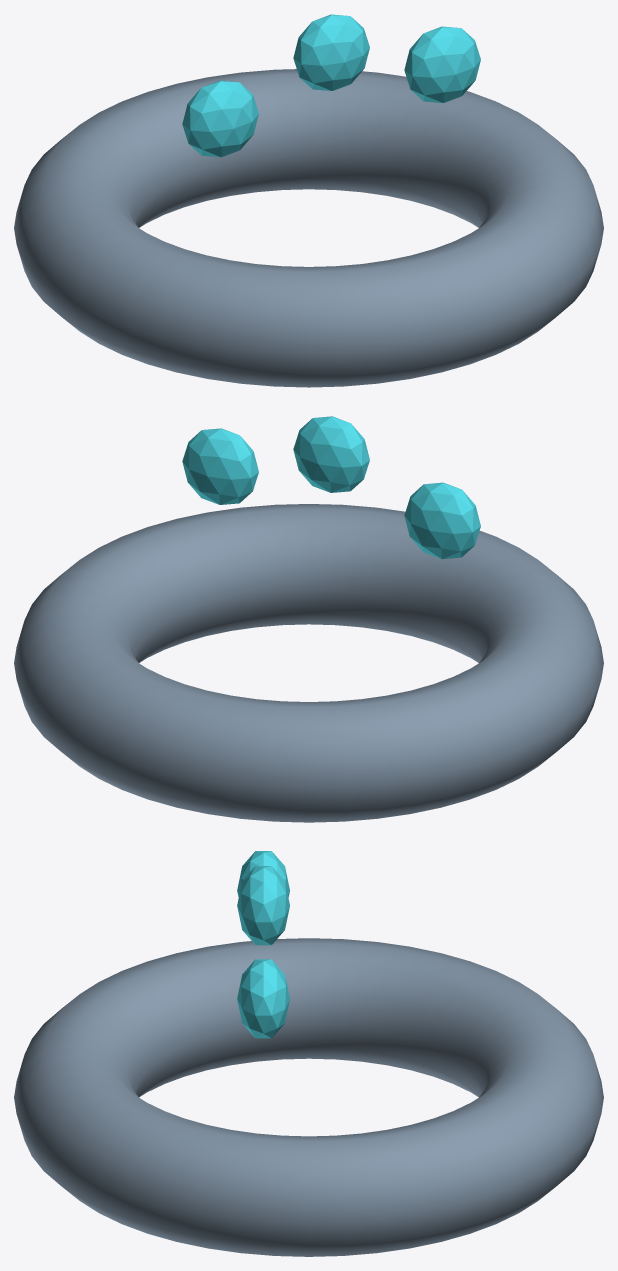
Rendered from earring_v2.glb.
3 views of the same model, one above another, from view 1: azimuth 30°, elevation 25°; view 2: azimuth 150°, elevation 25°; view 3: azimuth 270°, elevation 25° (orthographic).
Parts seen in each view (by area): view 1: EAR_CUFF_PRIMARY, CUFF_STUD_ACCENT.002, CUFF_STUD_ACCENT.001, CUFF_STUD_ACCENT; view 2: EAR_CUFF_PRIMARY, CUFF_STUD_ACCENT.002, CUFF_STUD_ACCENT.001, CUFF_STUD_ACCENT; view 3: EAR_CUFF_PRIMARY, CUFF_STUD_ACCENT.001, CUFF_STUD_ACCENT.002, CUFF_STUD_ACCENT.
Part boxes in pixels (x1=…): EAR_CUFF_PRIMARY: x1=14, y1=69, x2=603, y2=387; CUFF_STUD_ACCENT.002: x1=404, y1=26, x2=480, y2=103; CUFF_STUD_ACCENT.001: x1=293, y1=14, x2=369, y2=90; CUFF_STUD_ACCENT: x1=182, y1=80, x2=258, y2=157; EAR_CUFF_PRIMARY: x1=14, y1=504, x2=603, y2=822; CUFF_STUD_ACCENT.002: x1=182, y1=428, x2=258, y2=504; CUFF_STUD_ACCENT.001: x1=293, y1=416, x2=369, y2=492; CUFF_STUD_ACCENT: x1=404, y1=482, x2=480, y2=559; EAR_CUFF_PRIMARY: x1=14, y1=938, x2=603, y2=1256; CUFF_STUD_ACCENT.001: x1=237, y1=866, x2=289, y2=945; CUFF_STUD_ACCENT.002: x1=237, y1=959, x2=289, y2=1038; CUFF_STUD_ACCENT: x1=237, y1=851, x2=289, y2=897.
Bounding box in the file's own units: 1.56 × 0.83 × 1.56.
